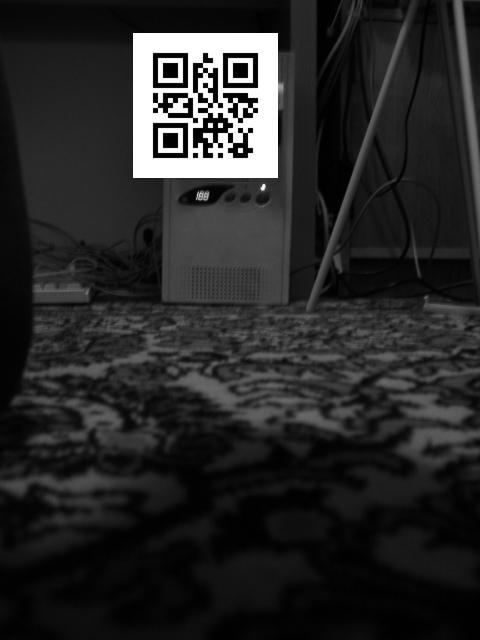qr_code: (132, 32, 278, 177)
